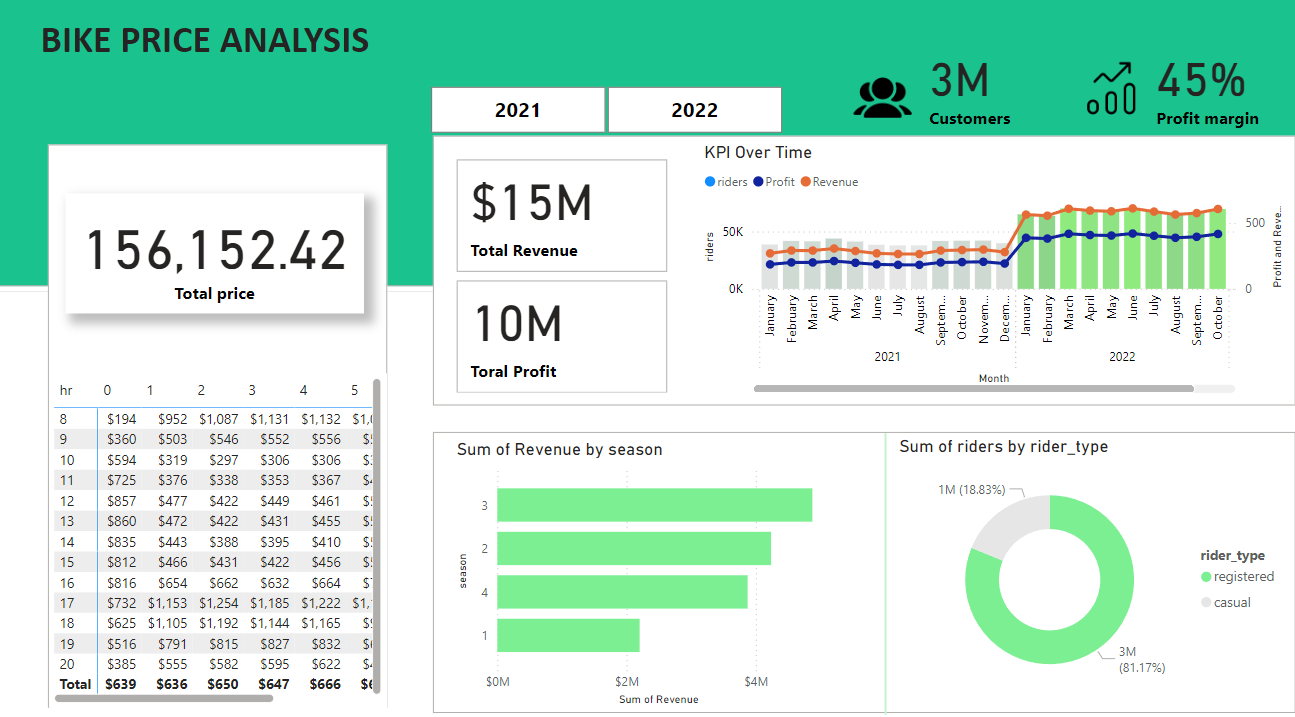

The page's visual inventory and layout, read from the dashboard file:
{"tool":"powerbi","page":{"name":"Page 1","canvas":[1280,720],"ordinal":0},"visuals":[{"type":"cardVisual","fields":{"Data":["Sum(Query1.Profit)"]},"box":[0,0,1280.3,293.5],"z":0},{"type":"cardVisual","fields":{"Data":["Sum(Query1.Profit)"]},"box":[48.9,144.3,342.4,561.3],"z":1000},{"type":"cardVisual","fields":{"Data":["Sum(Query1.Profit)"]},"box":[425.4,135.8,854.9,274.4],"z":2000},{"type":"cardVisual","fields":{"Data":["Sum(Query1.Profit)"]},"box":[425.4,425.4,854.9,285.4],"z":3000},{"type":"lineClusteredColumnComboChart","title":"KPI Over Time","fields":{"Category":["Query1.dteday.Variation.Date Hierarchy.Year","Query1.dteday.Variation.Date Hierarchy.Month","Query1.dteday.Variation.Date Hierarchy.Day"],"Y":["Sum(Query1.riders)"],"Y2":["Avg(Query1.Profit)","Avg(Query1.Revenue)"]},"box":[690.9,146.7,577.2,250.7],"z":4000},{"type":"donutChart","fields":{"Y":["Sum(Query1.riders)"],"Category":["Query1.rider_type"]},"box":[881.7,434.1,386.4,262.9],"z":5000},{"type":"clusteredBarChart","fields":{"Y":["Sum(Query1.Revenue)"],"Category":["Query1.season"]},"box":[448.8,436.6,377.9,266.6],"z":6000},{"type":"cardVisual","fields":{"Data":["Sum(Query1.Revenue)","Sum(Query1.Profit)"]},"box":[448.8,159,216.4,238.5],"z":7000},{"type":"pivotTable","fields":{"Rows":["Query1.hr"],"Values":["Avg(Query1.Revenue)"],"Columns":["Query1.weekday"]},"box":[55,373,330.2,327.7],"z":8000},{"type":"cardVisual","fields":{"Data":["Sum(Query1.riders)","Query1.Profit margin"]},"box":[812,30.6,456.1,128.4],"z":9000},{"type":"slicer","fields":{"Values":["Query1.Year"]},"box":[402.3,85.6,393.8,58.7],"z":10000},{"type":"shape","box":[719,431.7,308.2,275.1],"z":11000},{"type":"card","fields":{"Values":["Sum(Query1.price)"]},"box":[70.9,196.9,292.3,117.4],"z":12000},{"type":"textbox","box":[41.6,18.3,407.2,58.7],"z":13000}]}

Visuals, with their boxes in screenshot pixels (x1, y1, x2, y2), scaled from the page's 1280x720 canvas onto the 1295x717 screenshot:
cardVisual - Sum(Query1.Profit): rect(0, 0, 1294, 292)
cardVisual - Sum(Query1.Profit): rect(49, 144, 396, 703)
cardVisual - Sum(Query1.Profit): rect(430, 135, 1294, 408)
cardVisual - Sum(Query1.Profit): rect(430, 424, 1294, 708)
"KPI Over Time" lineClusteredColumnComboChart: rect(699, 146, 1283, 396)
donutChart - Sum(Query1.riders) x Query1.rider_type: rect(892, 432, 1283, 694)
clusteredBarChart - Sum(Query1.Revenue) x Query1.season: rect(454, 435, 836, 700)
cardVisual - Sum(Query1.Revenue) x Sum(Query1.Profit): rect(454, 158, 673, 396)
pivotTable - Query1.hr x Avg(Query1.Revenue): rect(56, 371, 390, 698)
cardVisual - Sum(Query1.riders) x Query1.Profit margin: rect(822, 30, 1283, 158)
slicer - Query1.Year: rect(407, 85, 805, 144)
shape: rect(727, 430, 1039, 704)
card - Sum(Query1.price): rect(72, 196, 367, 313)
textbox: rect(42, 18, 454, 77)
